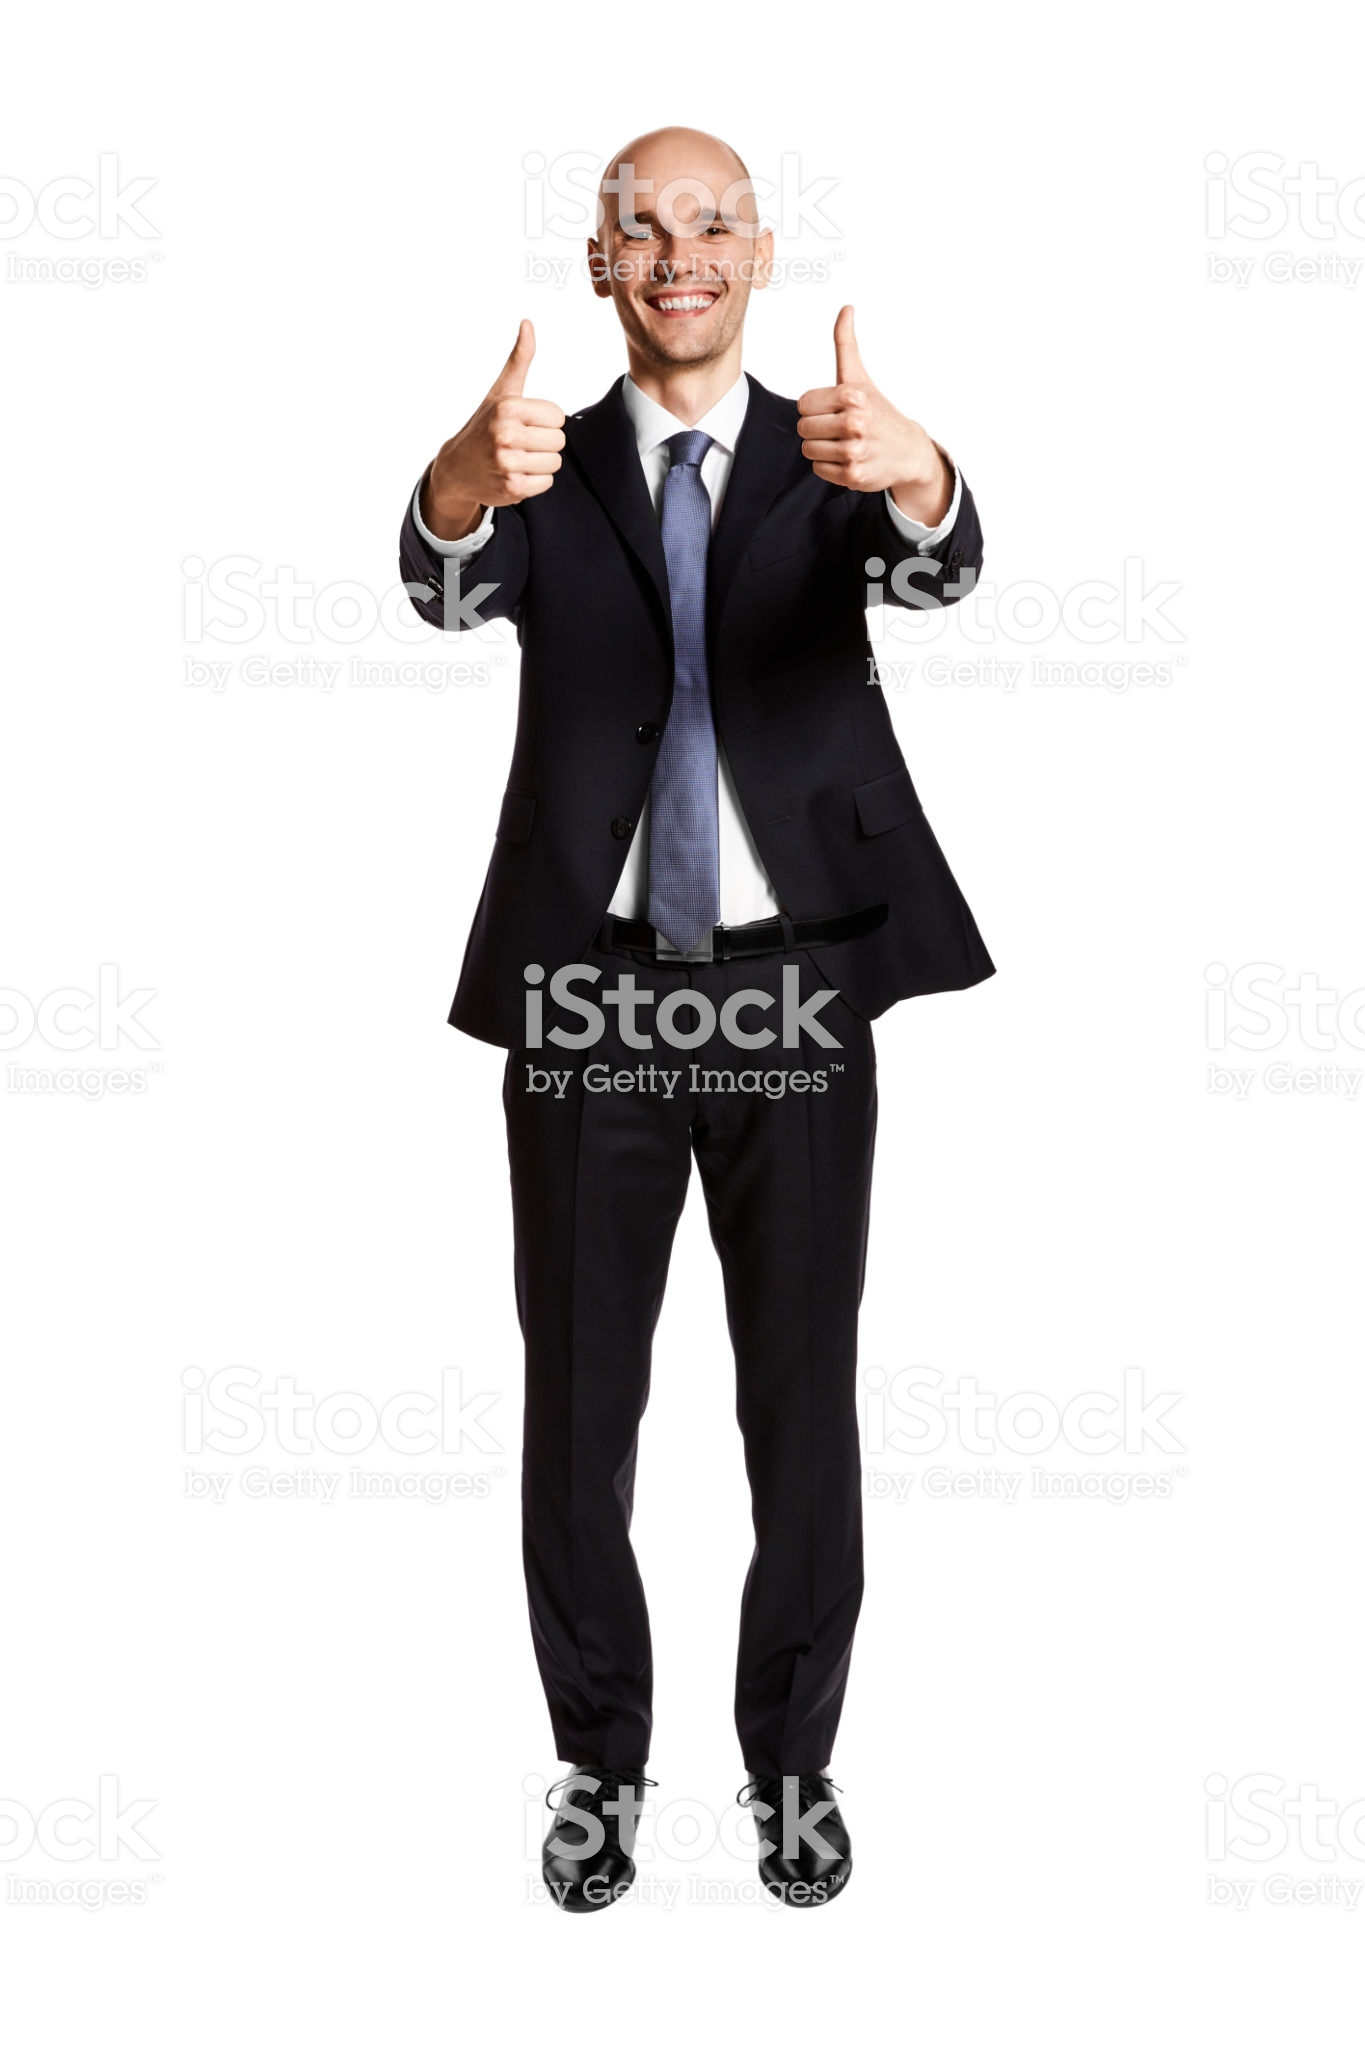thumbsup: (462, 317, 568, 507), (794, 303, 893, 493)
